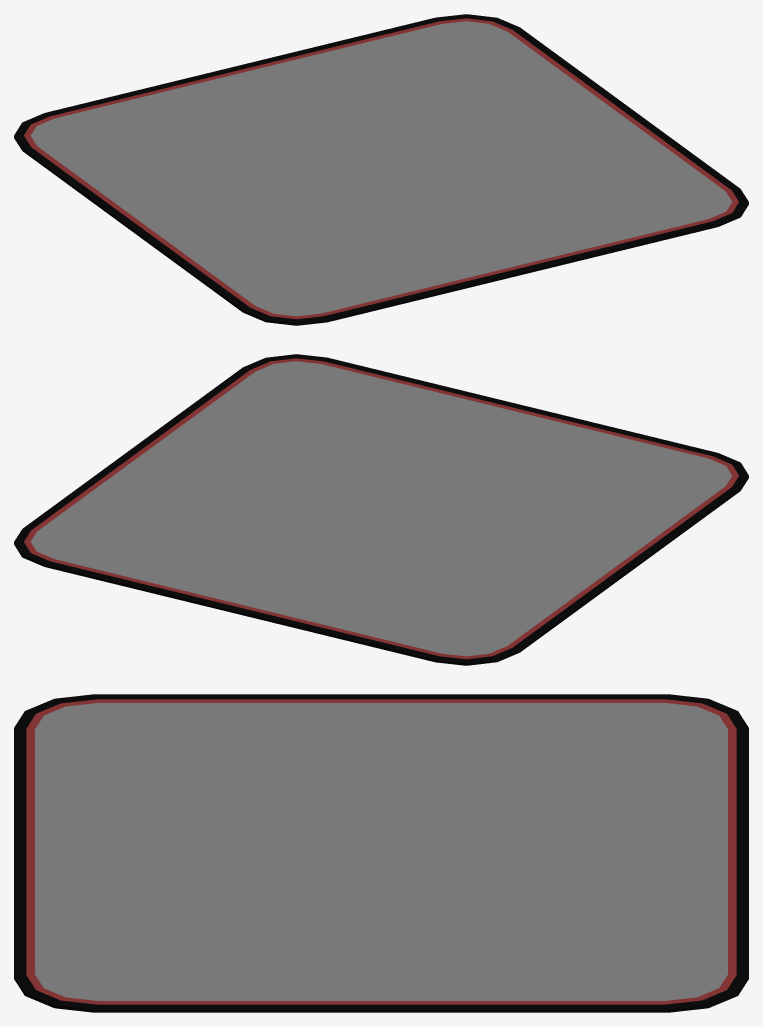
File: Carpet_6.fbx
The picture shows the model from 3 angles, top to bottom: view 1: azimuth 30°, elevation 25°; view 2: azimuth 150°, elevation 25°; view 3: azimuth 270°, elevation 25°; orthographic projection. The views are drawn at different scales.
Visible parts, largest first — view 1: Carpet_6; view 2: Carpet_6; view 3: Carpet_6.
Boxes of the visible parts, x1,y1,x2,y2 form: Carpet_6: (14,14,748,325); Carpet_6: (14,354,748,665); Carpet_6: (14,694,748,1012).
Bounding box in the file's own units: 1.42 × 0.0065 × 1.4.
